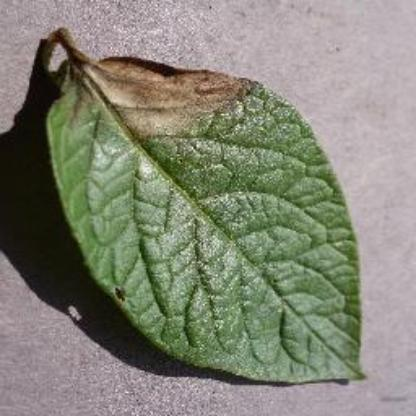Late-Blight: (37, 20, 367, 394)
